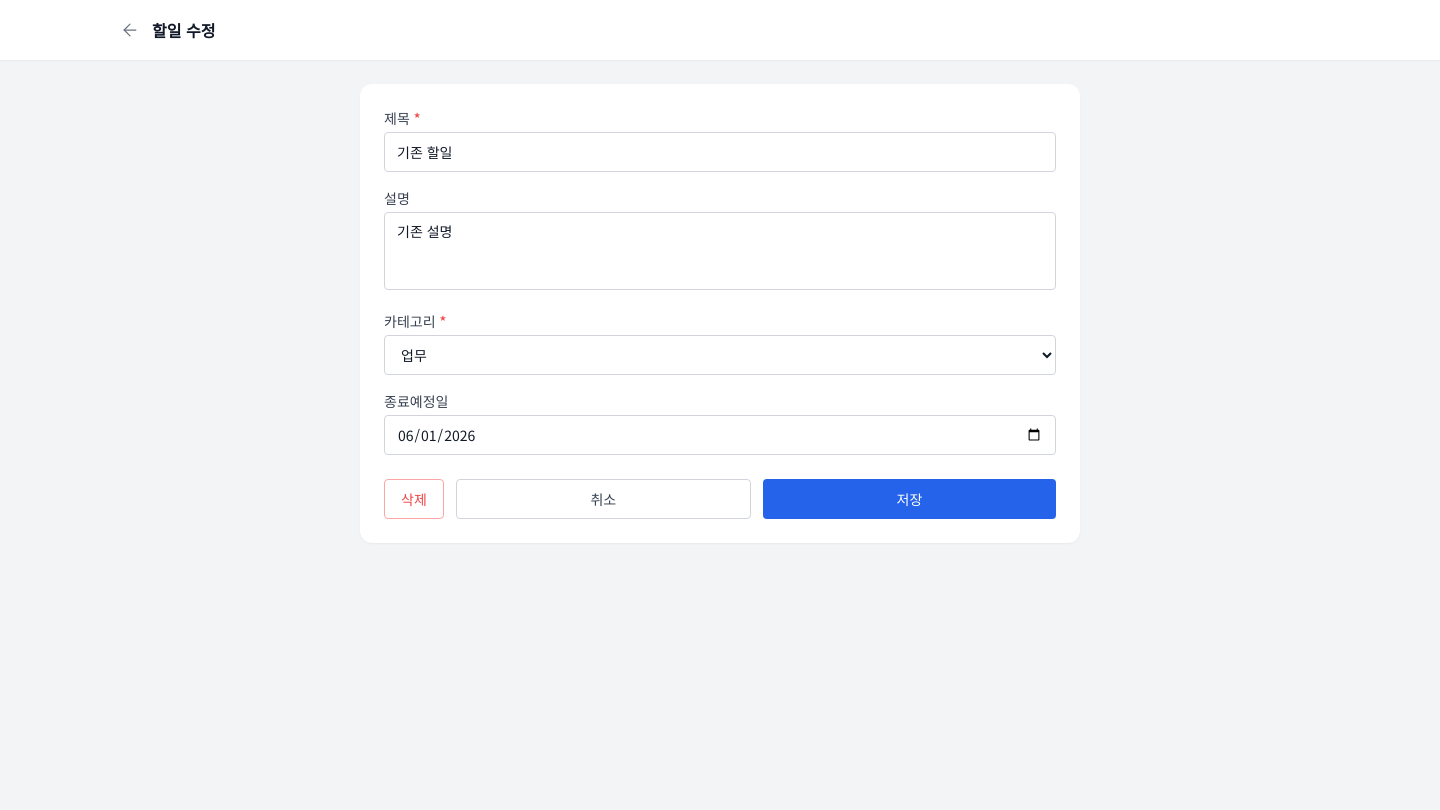
Test: TodoEditPage › 삭제 버튼 클릭 시 확인 모달 표시
Click the button "삭제". click: click(414, 499)
box: x1=384 y1=479 x2=444 y2=519
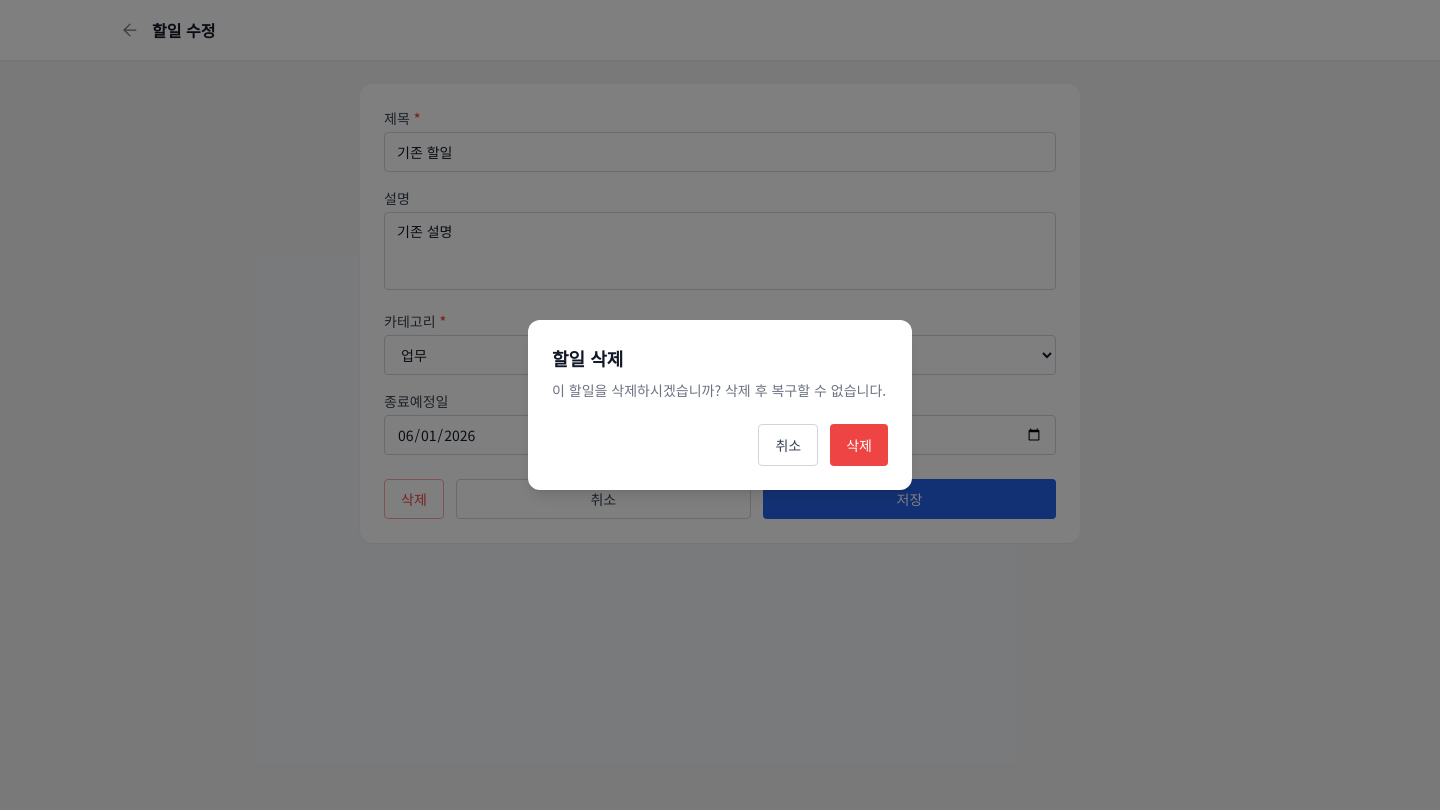
Now the heading "할일 삭제" is shown, box x1=552 y1=345 x2=623 y2=371
Now the text "이 할일을 삭제하시겠습니까? 삭제 후 복구할 수 없습니다." is shown, box x1=552 y1=380 x2=888 y2=400
